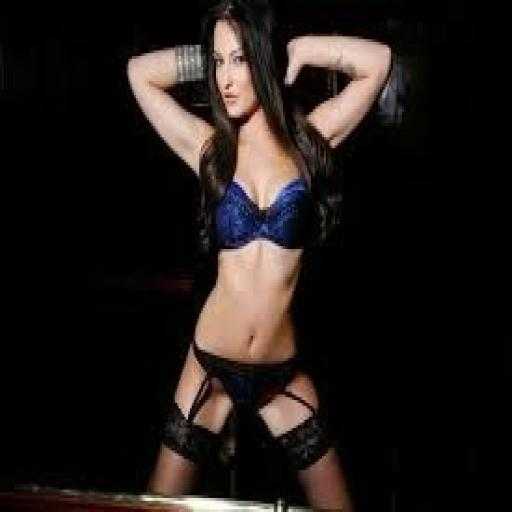dancing: (123, 0, 400, 509)
